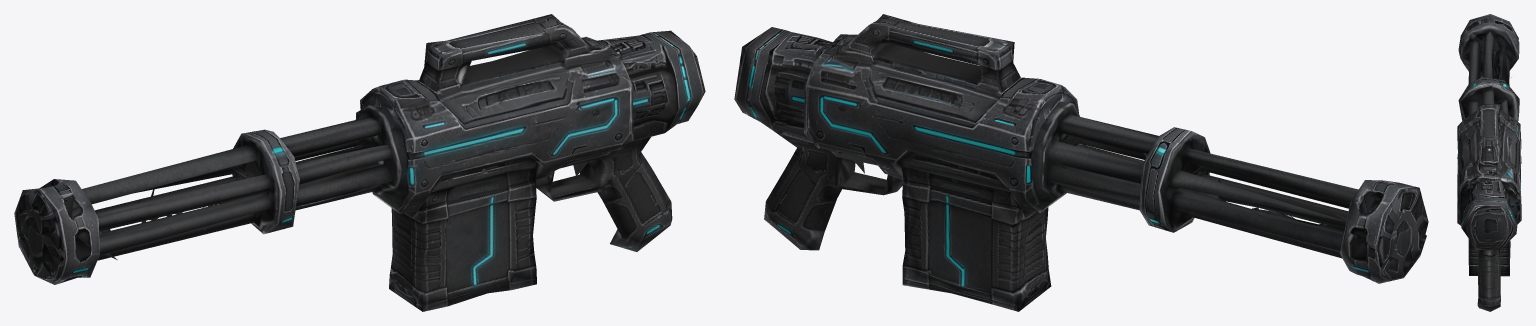
Rendered from minigun.glb.
The picture shows the model from 3 angles, left to right: view 1: azimuth 30°, elevation 25°; view 2: azimuth 150°, elevation 25°; view 3: azimuth 270°, elevation 25°; orthographic projection. The views are drawn at different scales.
Visible parts, largest first — view 1: tripo_node_ae40f5a4-d2f1-4d5f-bb32-fdb400d82e71; view 2: tripo_node_ae40f5a4-d2f1-4d5f-bb32-fdb400d82e71; view 3: tripo_node_ae40f5a4-d2f1-4d5f-bb32-fdb400d82e71.
Part boxes in pixels (left/top/right/bottom): tripo_node_ae40f5a4-d2f1-4d5f-bb32-fdb400d82e71: left=14, top=14, right=705, bottom=311; tripo_node_ae40f5a4-d2f1-4d5f-bb32-fdb400d82e71: left=734, top=14, right=1428, bottom=311; tripo_node_ae40f5a4-d2f1-4d5f-bb32-fdb400d82e71: left=1457, top=14, right=1521, bottom=311.
Bounding box in the file's own units: 0.9785 × 0.3488 × 0.1385.
1 material, 1 textured.
